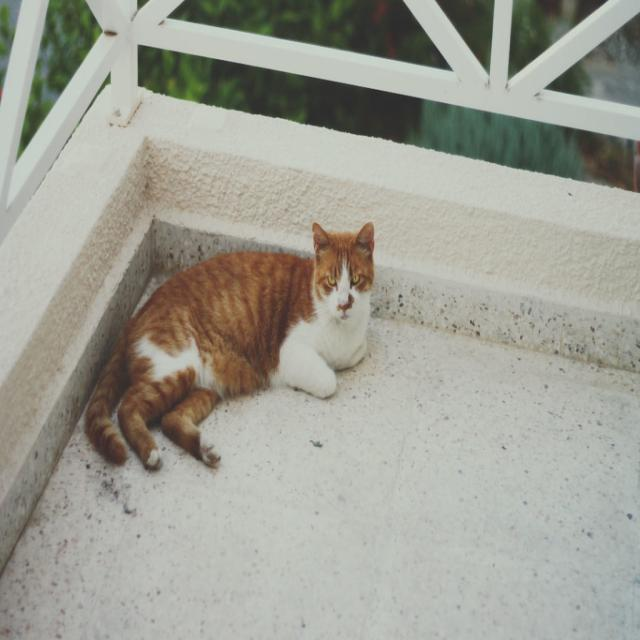Cat: (80, 218, 376, 470)
